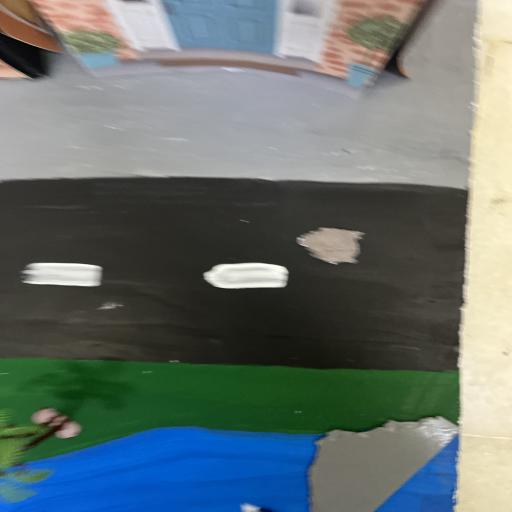encroachment: (304, 413, 457, 512)
porthole: (295, 226, 362, 266)
